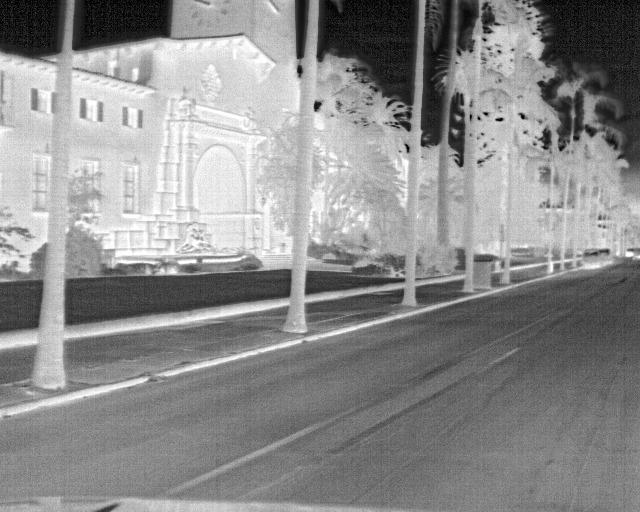car: (580, 248, 603, 270), (596, 248, 613, 267), (622, 247, 634, 258)
